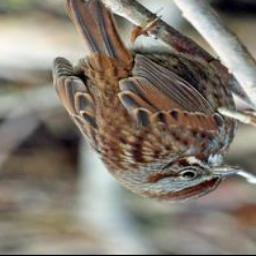Sparrow: (49, 0, 245, 203)
